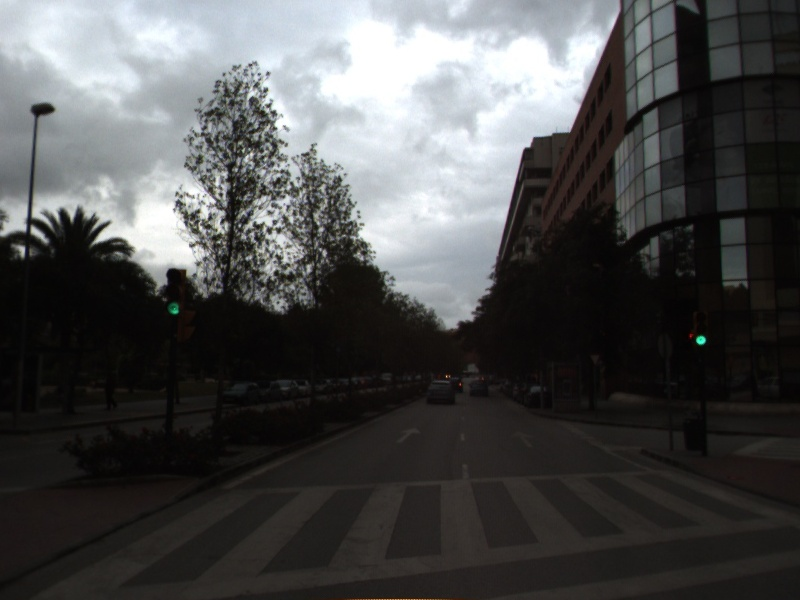STRAIGHT: (393, 425, 423, 445), (508, 429, 537, 449)
